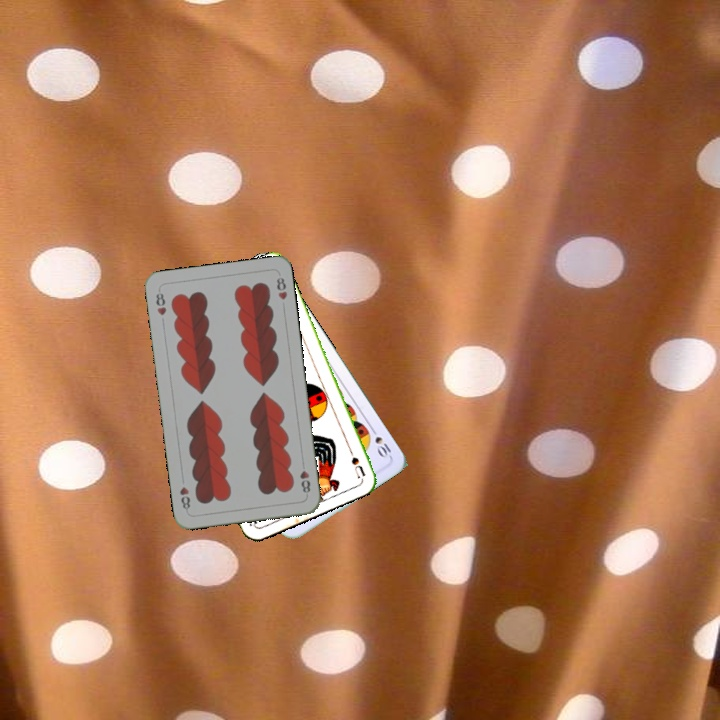H8: (296, 458, 313, 496), (152, 286, 169, 318)
S10: (367, 423, 394, 461)
SU: (343, 440, 368, 480)
